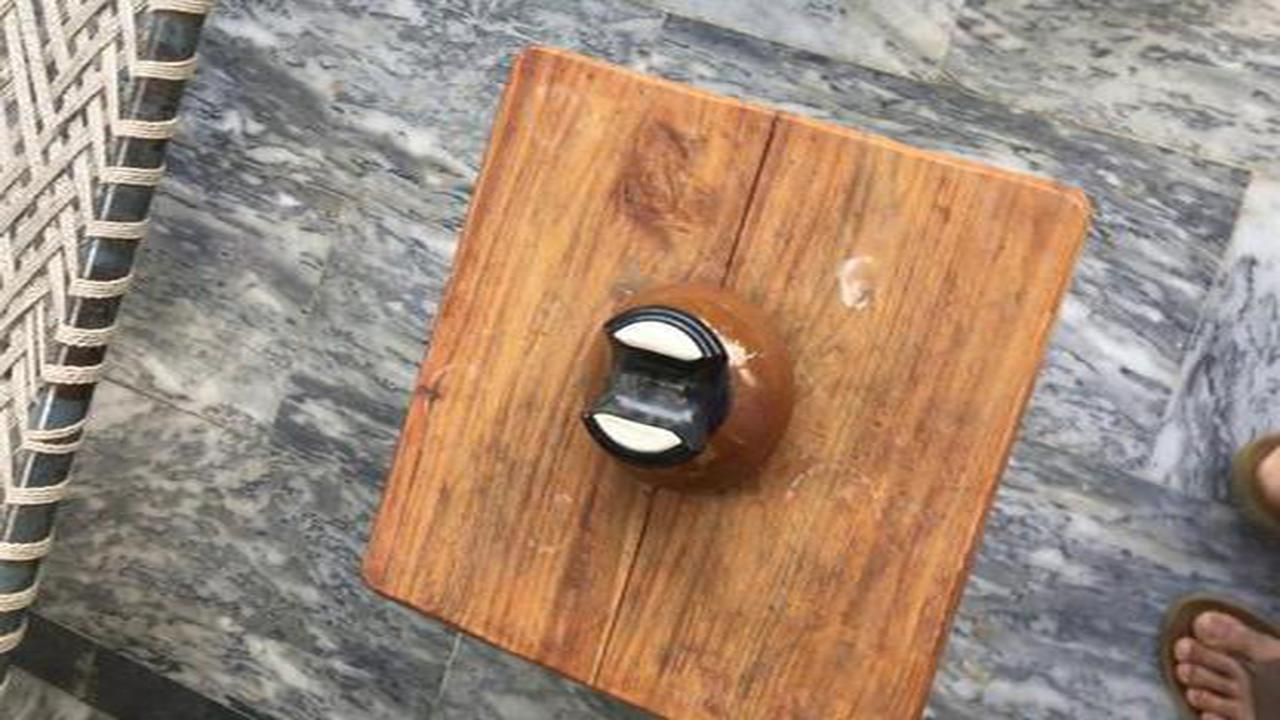insulator_pin: (567, 277, 810, 509)
